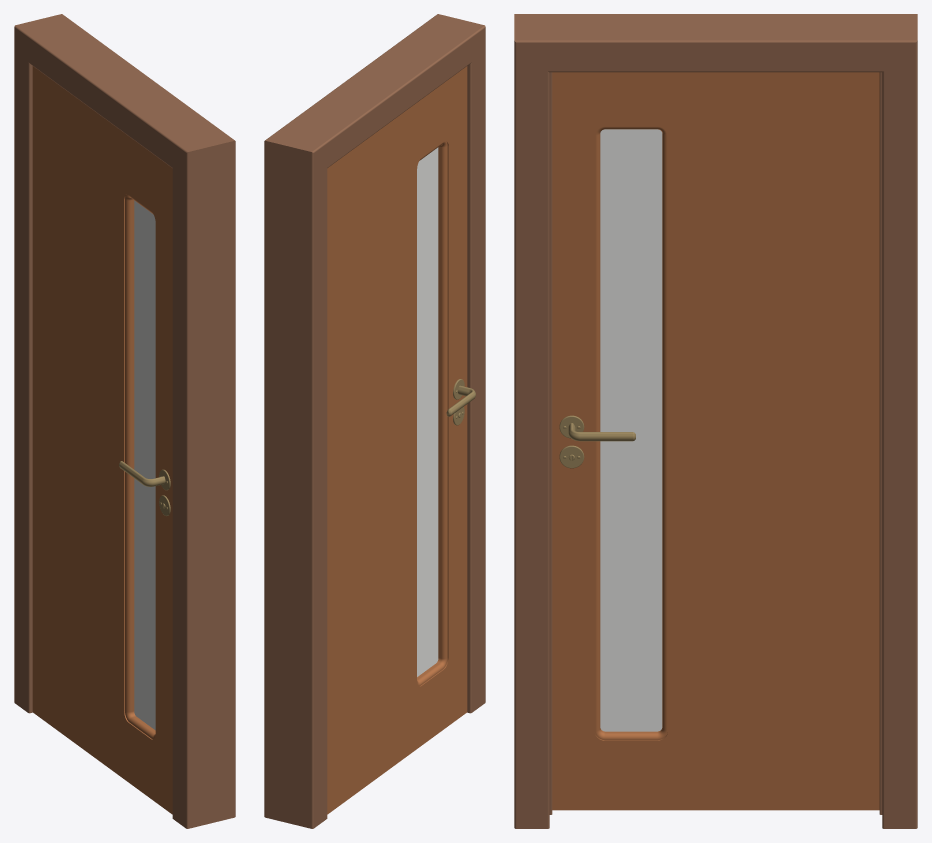
The model's file is door.gltf.
3 views of the same model, side by side, from view 1: azimuth 30°, elevation 25°; view 2: azimuth 150°, elevation 25°; view 3: azimuth 270°, elevation 25° (orthographic). The views are drawn at different scales.
Parts seen in each view (by area): view 1: color-3, color-2, color, color-4; view 2: color-3, color-2, color, color-4; view 3: color-3, color-2, color, color-4.
Boxes of the visible parts, x1,y1,x2,y2 form: color-3: [32, 66, 172, 814]; color-2: [14, 14, 235, 828]; color: [134, 200, 155, 730]; color-4: [119, 461, 170, 515]; color-3: [327, 66, 467, 814]; color-2: [264, 14, 485, 828]; color: [417, 147, 438, 676]; color-4: [446, 379, 475, 425]; color-3: [552, 72, 879, 810]; color-2: [514, 14, 917, 828]; color: [600, 129, 662, 731]; color-4: [559, 415, 635, 468].
Size of the model in its own units: 0.2148 by 2.11 by 0.976.
